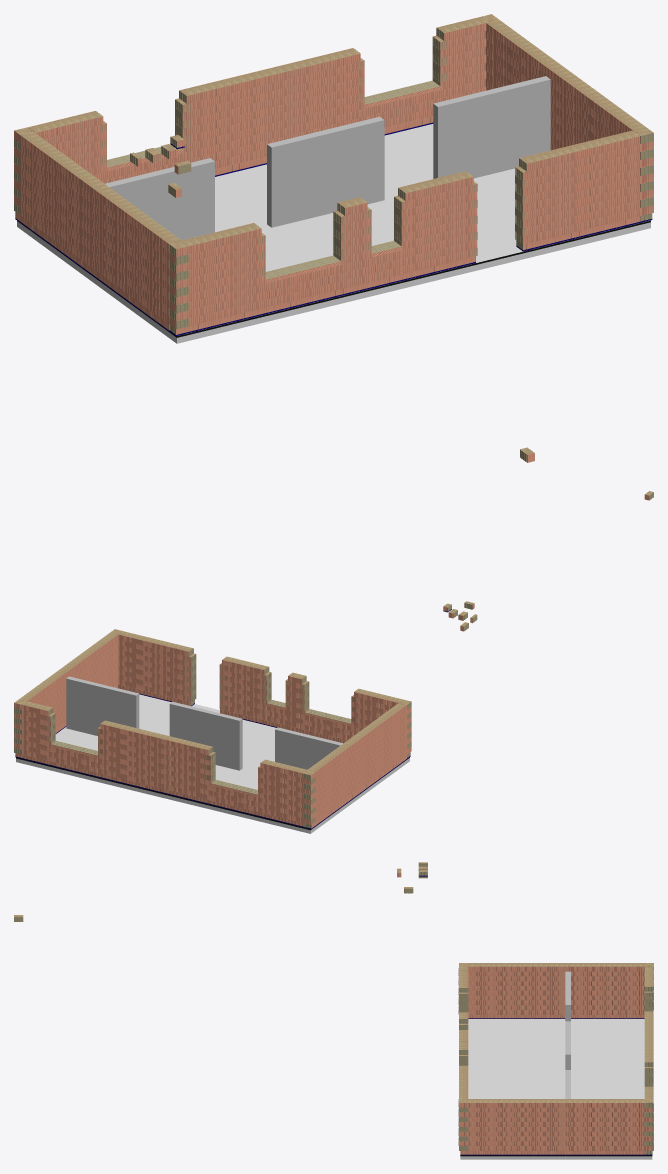
File: domek_rohy_okna_straight_windows_new_detailnejsi.fbx
3 renders of one model, top to bottom at view 1: azimuth 30°, elevation 25°; view 2: azimuth 150°, elevation 25°; view 3: azimuth 270°, elevation 25°, orthographic. The views are drawn at different scales.
Visible parts, largest first — view 1: Zakladova_deska.001, Stena_2.001, Stena_2.003, Stena_2.002; view 2: Zakladova_deska.001, Stena_2.003, Stena_2.001, Stena_2.002; view 3: Zakladova_deska.001.
Boxes of the visible parts, x1=… form: Zakladova_deska.001: x1=17, y1=124, x2=650, y2=343; Stena_2.001: x1=267, y1=116, x2=384, y2=227; Stena_2.003: x1=433, y1=76, x2=550, y2=178; Stena_2.002: x1=104, y1=158, x2=214, y2=240; Zakladova_deska.001: x1=16, y1=694, x2=409, y2=833; Stena_2.003: x1=66, y1=676, x2=139, y2=735; Stena_2.001: x1=169, y1=701, x2=242, y2=770; Stena_2.002: x1=275, y1=727, x2=342, y2=769; Zakladova_deska.001: x1=460, y1=1018, x2=652, y2=1159.
Bounding box in the file's own units: 1798 × 735 × 3018.
